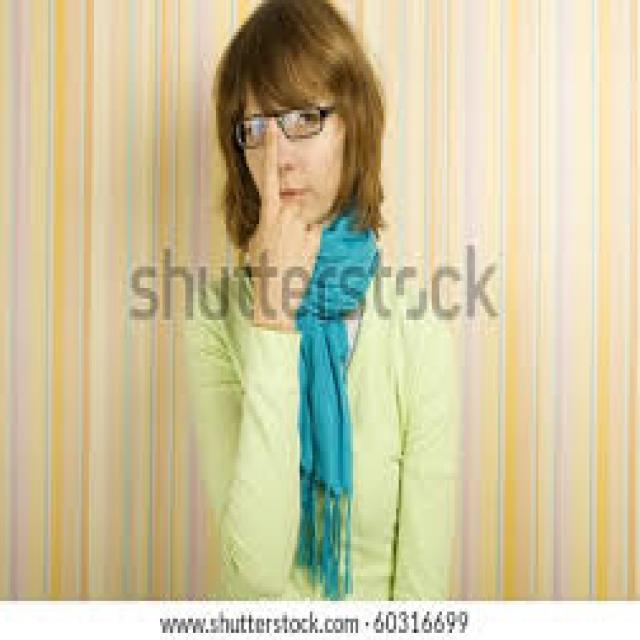Glasses: (218, 92, 338, 163)
